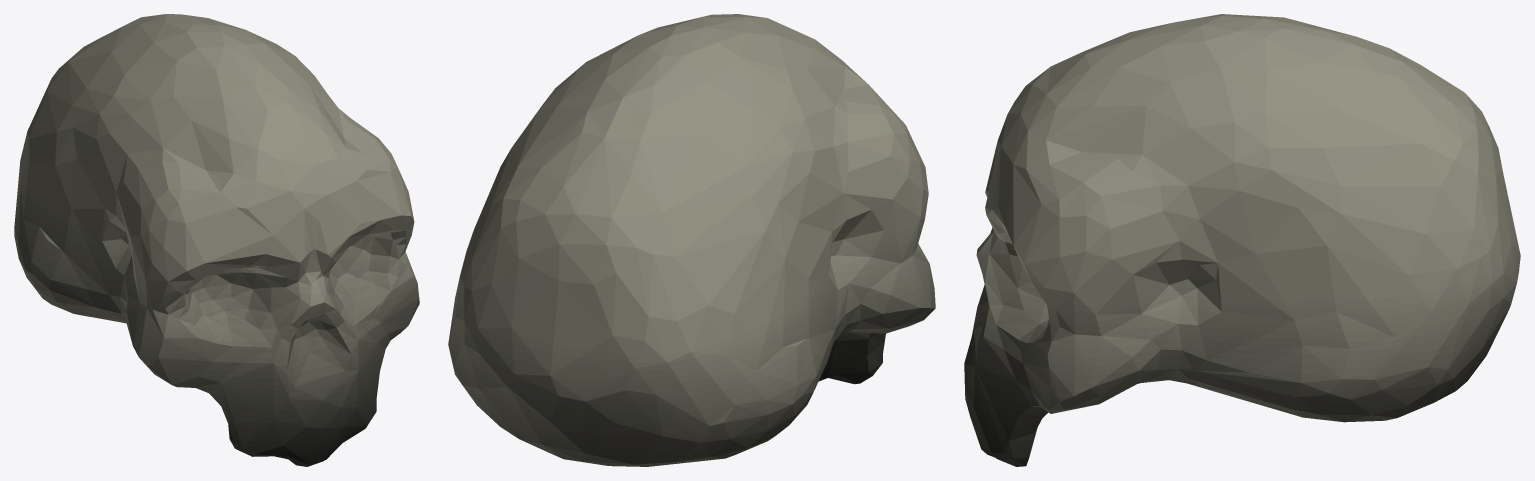
File: SkullTop.glb
The picture shows the model from 3 angles, left to right: view 1: azimuth 30°, elevation 25°; view 2: azimuth 150°, elevation 25°; view 3: azimuth 270°, elevation 25°; orthographic projection. The views are drawn at different scales.
Visible parts, largest first — view 1: SkullTop.col; view 2: SkullTop.col; view 3: SkullTop.col.
Boxes of the visible parts, bbox=[...] form: SkullTop.col: bbox=[14, 14, 419, 466]; SkullTop.col: bbox=[448, 14, 935, 466]; SkullTop.col: bbox=[964, 14, 1520, 466].
Size of the model in its own units: 0.8154 by 1.01 by 1.18.
1 material, 1 textured.
